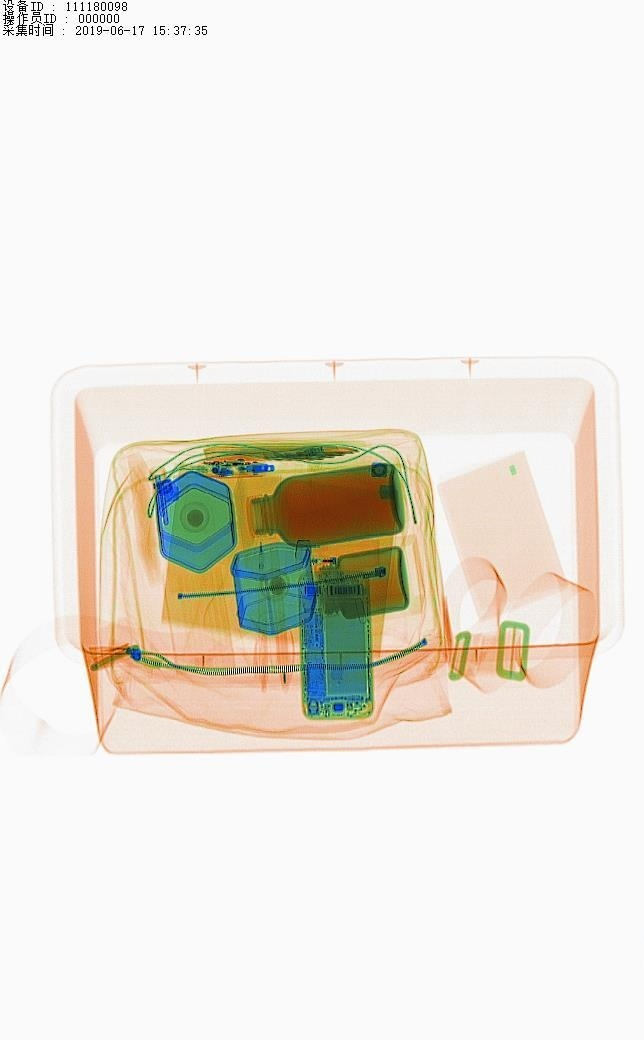NonmetallicFire: (291, 527, 391, 580)
